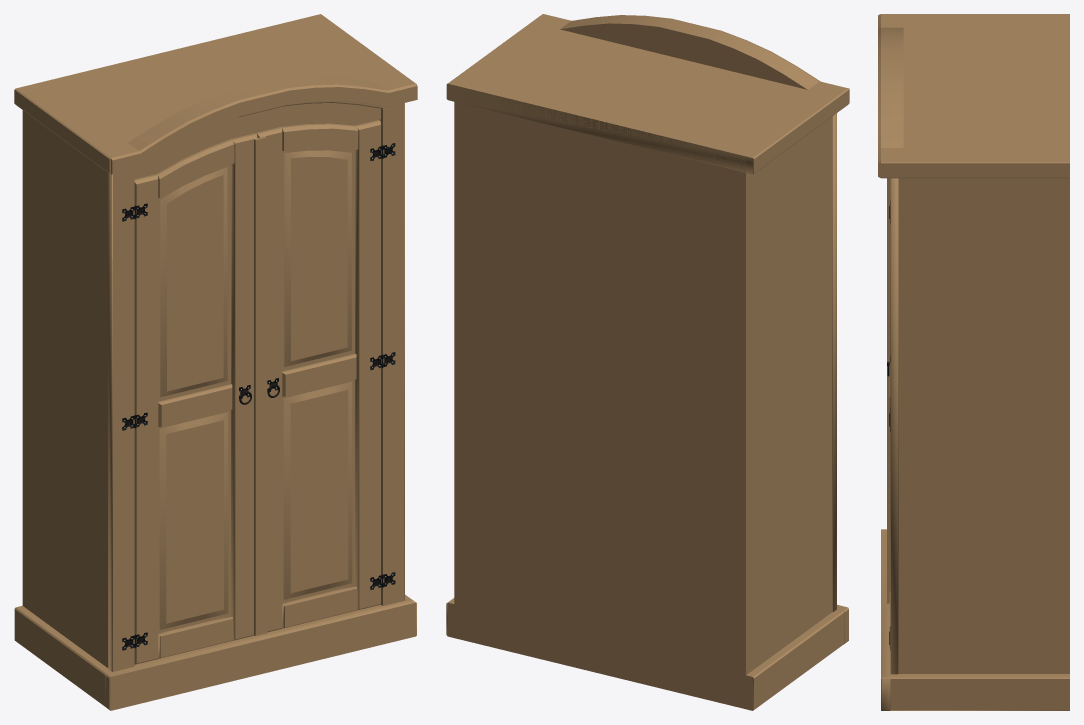
The model's file is wardrobe.fbx.
3 renders of one model, left to right at view 1: azimuth 30°, elevation 25°; view 2: azimuth 150°, elevation 25°; view 3: azimuth 270°, elevation 25°, orthographic.
Parts seen in each view (by area): view 1: Cube.017_Cube.023, Cube.014, Cube.016_Cube.017; view 2: Cube.017_Cube.023; view 3: Cube.017_Cube.023, Cube.014.
Boxes of the visible parts, box(x1,y1,x2,y2) form: Cube.017_Cube.023: box(14, 14, 417, 710); Cube.014: box(254, 120, 381, 635); Cube.016_Cube.017: box(134, 133, 257, 664); Cube.017_Cube.023: box(446, 14, 849, 710); Cube.017_Cube.023: box(878, 14, 1069, 710); Cube.014: box(887, 178, 890, 647).
Size of the model in its own units: 101 by 181 by 54.85.
